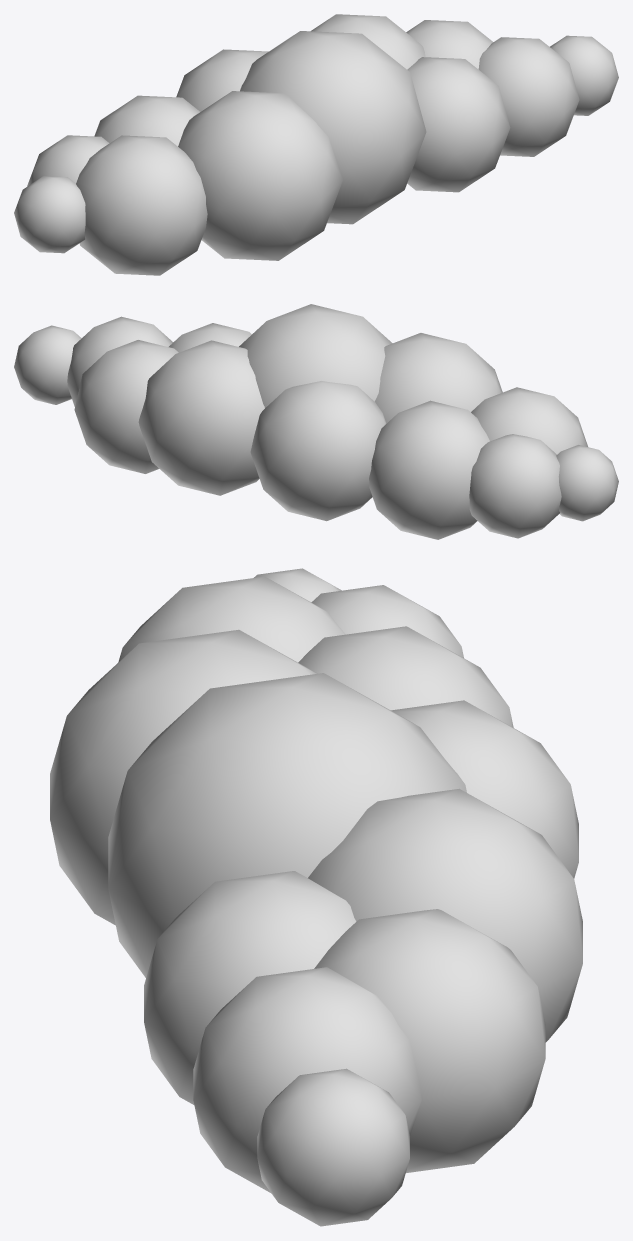
The model's file is cloud_3.fbx.
The picture shows the model from 3 angles, top to bottom: view 1: azimuth 30°, elevation 25°; view 2: azimuth 150°, elevation 25°; view 3: azimuth 270°, elevation 25°; orthographic projection. The views are drawn at different scales.
Parts seen in each view (by area): view 1: Cloud 3; view 2: Cloud 3; view 3: Cloud 3.
Part boxes in pixels (bbox=[...]): Cloud 3: bbox=[14, 14, 618, 275]; Cloud 3: bbox=[14, 304, 618, 539]; Cloud 3: bbox=[50, 568, 582, 1226].
Bounding box in the file's own units: 823 × 236 × 326.
